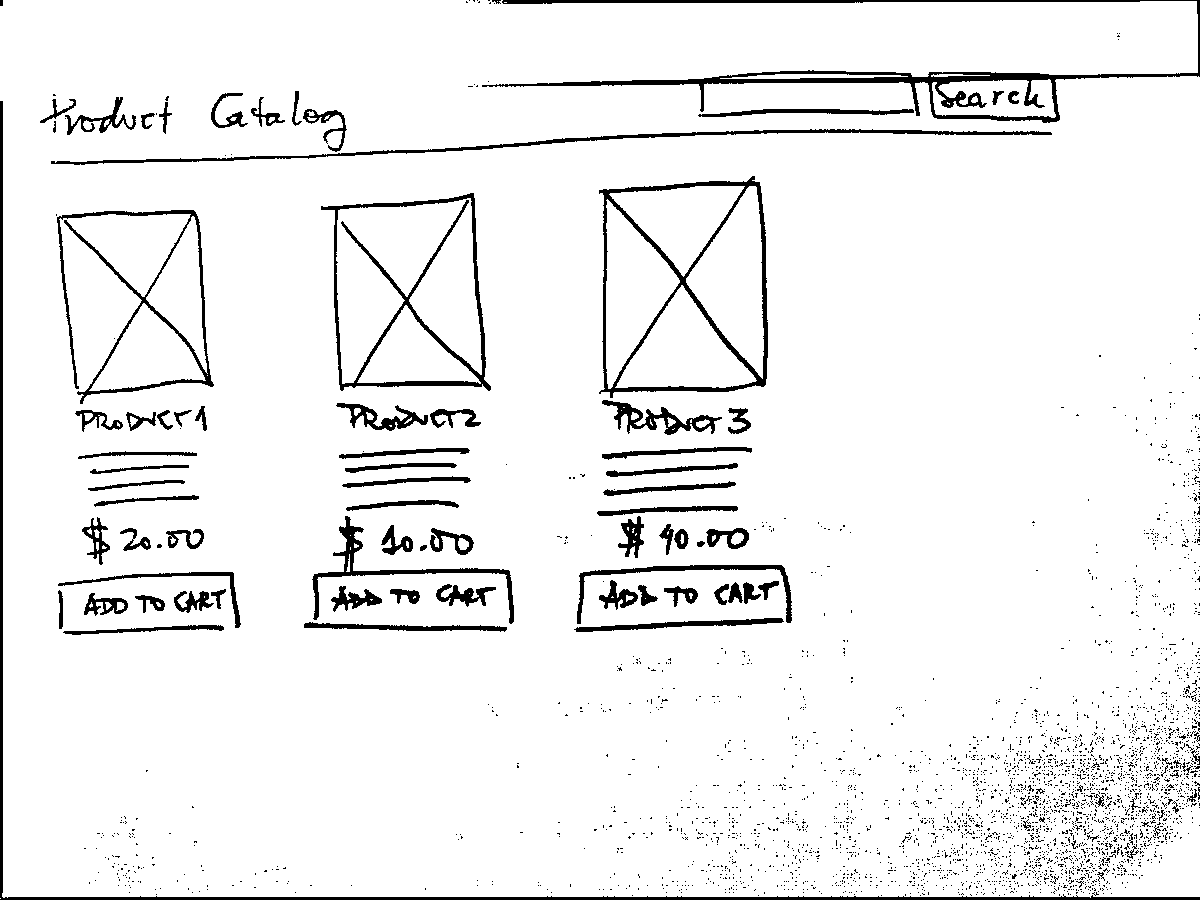Button: (573, 560, 795, 635), (301, 564, 520, 638), (55, 569, 245, 635), (921, 64, 1069, 128)
Image: (592, 175, 776, 397), (314, 191, 491, 392), (49, 204, 217, 403)
Paragraph: (596, 445, 757, 516), (332, 445, 473, 517), (71, 445, 204, 512)
Textbox: (694, 67, 923, 123)
